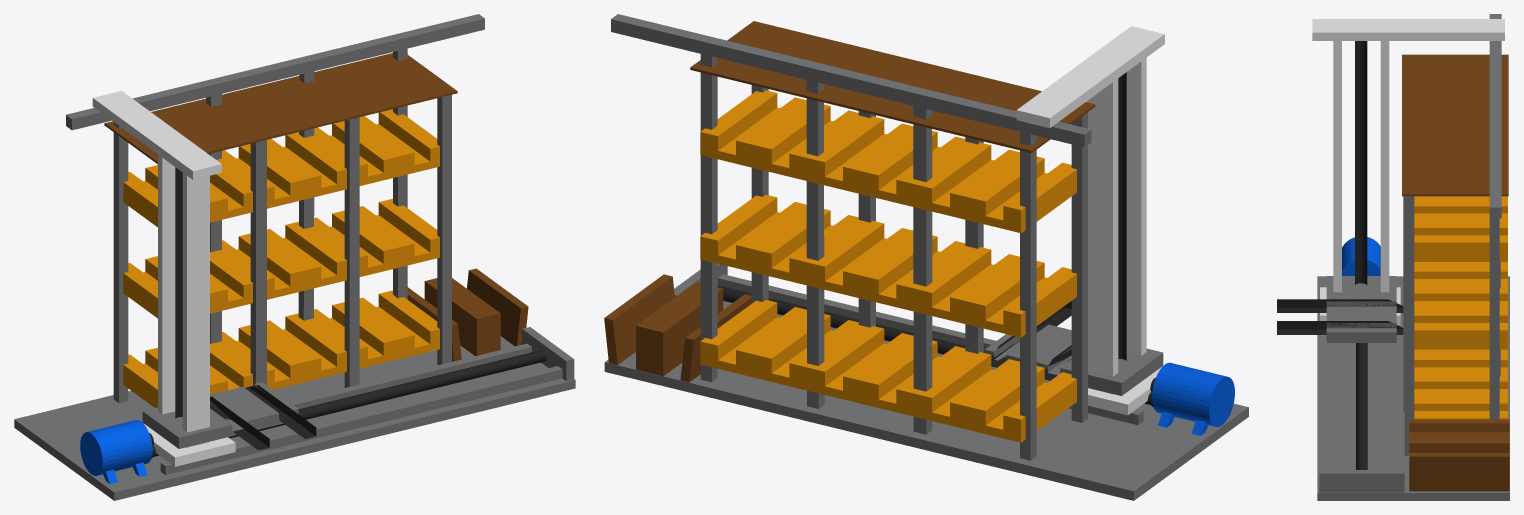
Rendered from storage.glb.
The picture shows the model from 3 angles, left to right: view 1: azimuth 30°, elevation 25°; view 2: azimuth 150°, elevation 25°; view 3: azimuth 270°, elevation 25°; orthographic projection. The views are drawn at different scales.
Visible parts, largest first — view 1: Tower; view 2: Tower; view 3: Tower.
Boxes of the visible parts, bbox=[...] form: Tower: bbox=[14, 14, 575, 500]; Tower: bbox=[604, 14, 1248, 500]; Tower: bbox=[1277, 14, 1509, 500].
Size of the model in its own units: 5.33 by 3.45 by 2.42.
